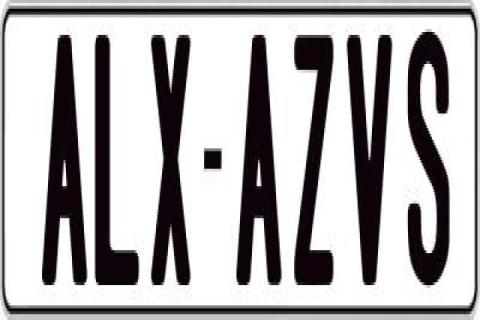A: (40, 32, 88, 291), (233, 32, 281, 285)
L: (92, 26, 138, 291)
S: (408, 29, 452, 299)
V: (346, 35, 394, 303)
X: (150, 29, 194, 285)
Z: (294, 35, 334, 294)
